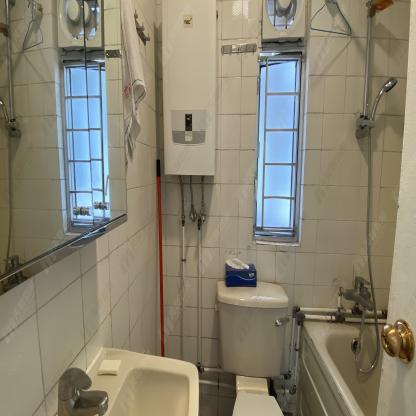Bathtub: (296, 318, 386, 416)
Exhaust Fan: (260, 0, 308, 46)
Faucet: (50, 365, 112, 414)
Toilet: (213, 278, 295, 416)
Toilet Sink: (55, 345, 199, 416)
Water Heater: (161, 0, 217, 176)
